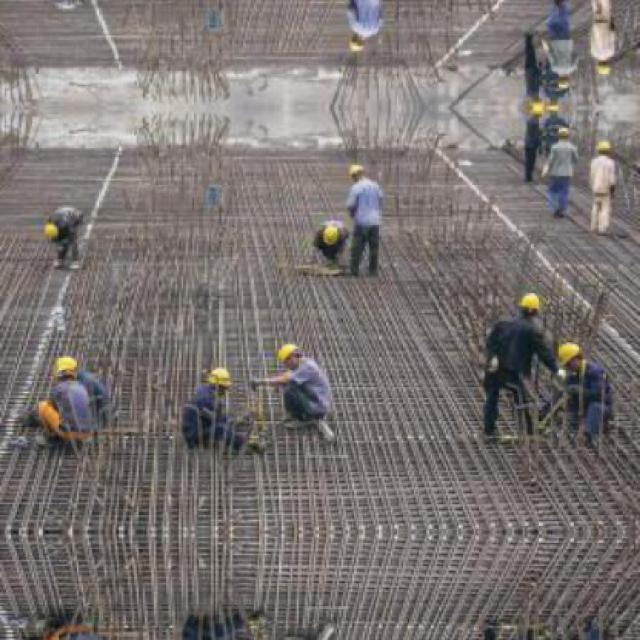helmet: (557, 338, 586, 373), (49, 355, 83, 384), (316, 219, 346, 250), (279, 338, 306, 372), (517, 291, 545, 321), (204, 366, 233, 394), (40, 216, 65, 244), (348, 158, 370, 186), (348, 29, 370, 57)
